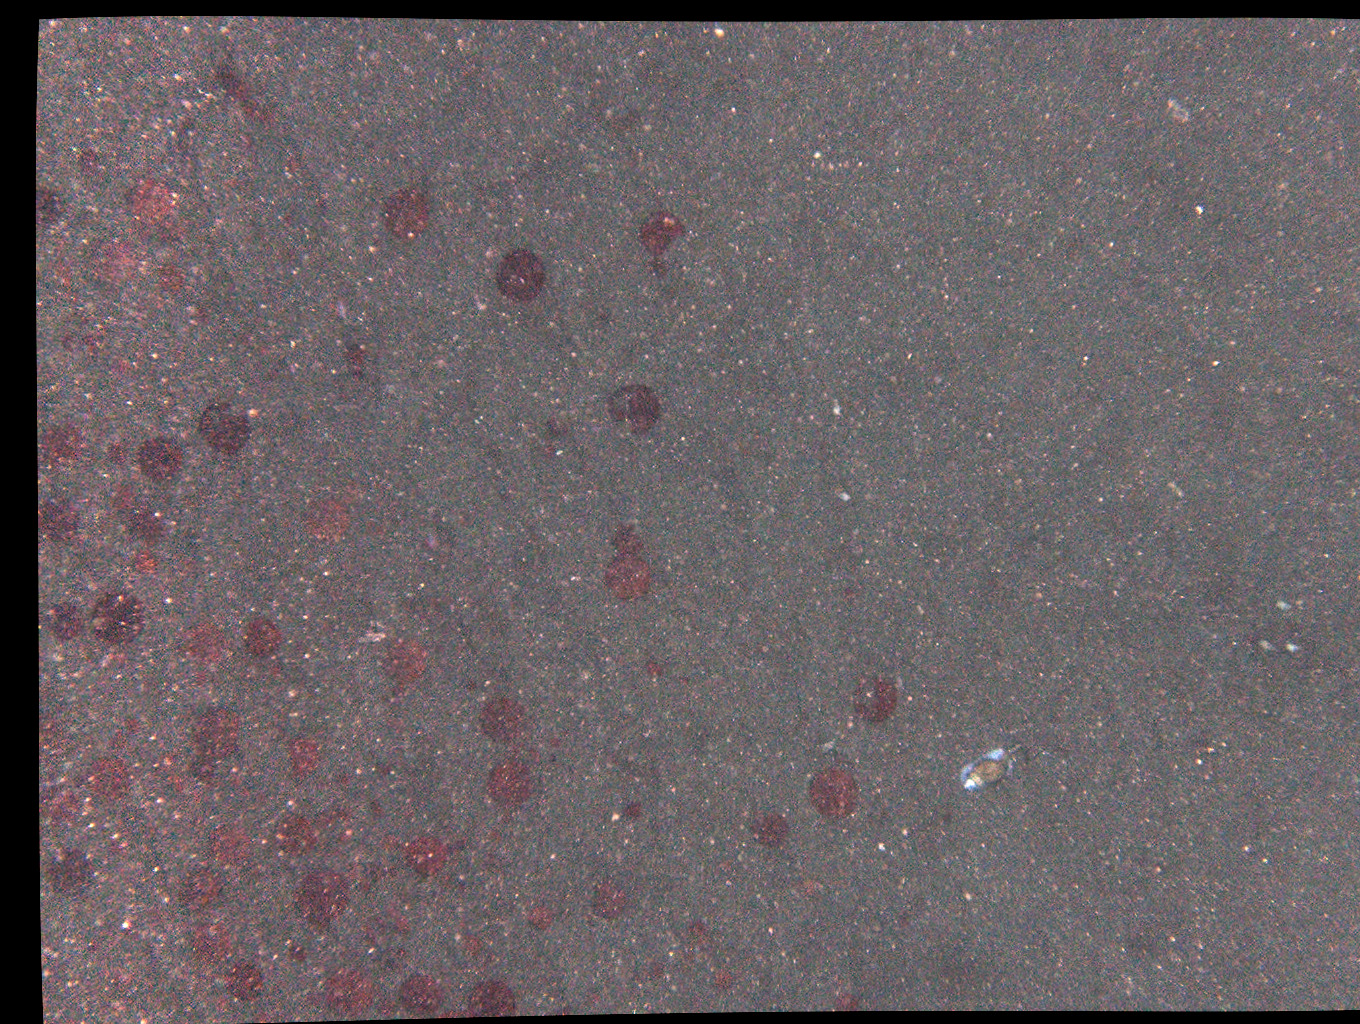Substrate A: (104, 46, 125, 66)
Whelk: (959, 742, 1035, 801)
sand dollar: (628, 213, 688, 270), (117, 179, 173, 234), (295, 874, 349, 931), (607, 383, 663, 438), (94, 591, 149, 645), (808, 756, 864, 811), (486, 758, 542, 813), (462, 692, 518, 746), (854, 680, 910, 735), (83, 234, 139, 289), (373, 637, 429, 692), (297, 494, 353, 549), (196, 402, 252, 457), (373, 190, 429, 245), (598, 551, 654, 606), (490, 248, 546, 303), (743, 803, 794, 853), (87, 746, 137, 798), (137, 435, 186, 485), (239, 620, 286, 666), (269, 817, 316, 864), (221, 950, 269, 996), (185, 925, 232, 971), (55, 848, 102, 894), (187, 743, 234, 790), (194, 707, 241, 753), (400, 967, 447, 1013), (324, 968, 371, 1014), (584, 881, 631, 927), (46, 499, 94, 545), (128, 504, 175, 551), (27, 186, 74, 232), (205, 822, 252, 868), (178, 625, 225, 671), (250, 87, 297, 133), (403, 833, 450, 878), (182, 861, 229, 906), (470, 975, 517, 1020), (40, 419, 87, 465), (223, 63, 270, 109), (280, 733, 326, 778), (47, 605, 94, 650), (607, 515, 650, 556), (153, 265, 187, 298), (69, 144, 103, 177), (127, 555, 161, 588), (99, 482, 133, 515), (114, 824, 148, 857), (387, 905, 421, 938), (284, 933, 318, 966), (105, 435, 139, 468), (522, 906, 556, 939), (618, 795, 652, 828), (718, 961, 751, 994), (793, 876, 827, 909), (833, 982, 867, 1015), (66, 332, 100, 365), (339, 346, 373, 379), (44, 790, 78, 822), (118, 715, 152, 748), (436, 931, 470, 964)
